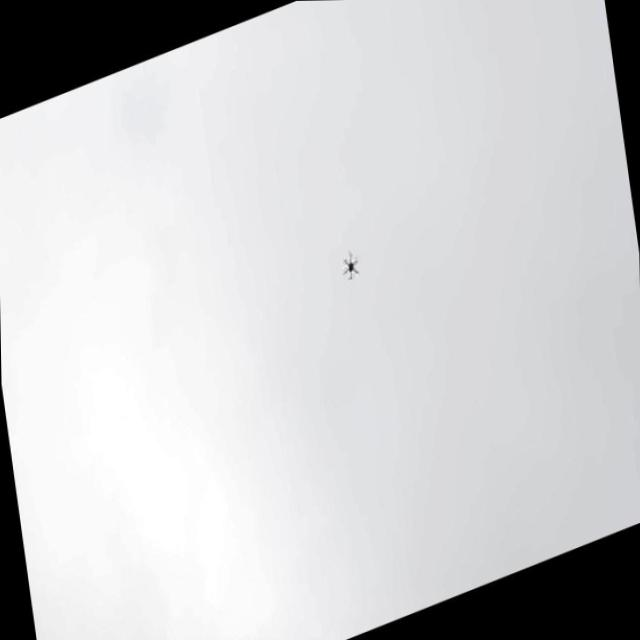drone: (338, 242, 360, 284)
